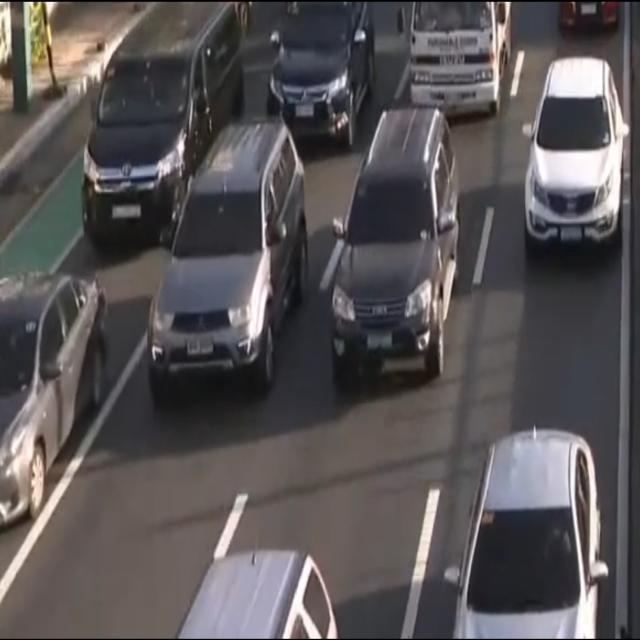SUV: (150, 125, 308, 416), (331, 111, 462, 396), (524, 58, 626, 253)
Sedan: (458, 425, 607, 640), (1, 266, 108, 528), (265, 0, 376, 141)
Truck: (403, 0, 515, 129)
Van: (82, 9, 246, 246)
